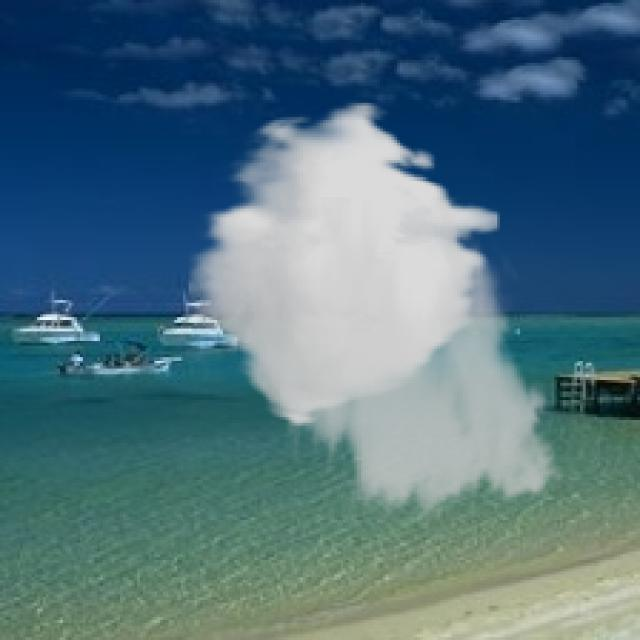Smoke: (188, 100, 572, 526)
